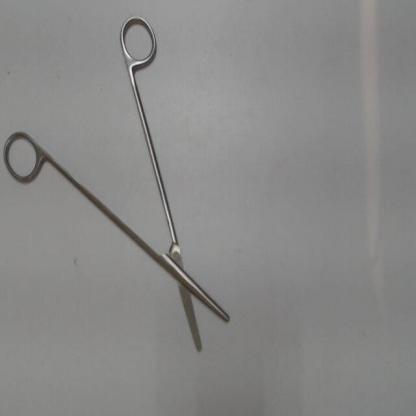9 Metzenbaum Scissors: (1, 10, 236, 356)
